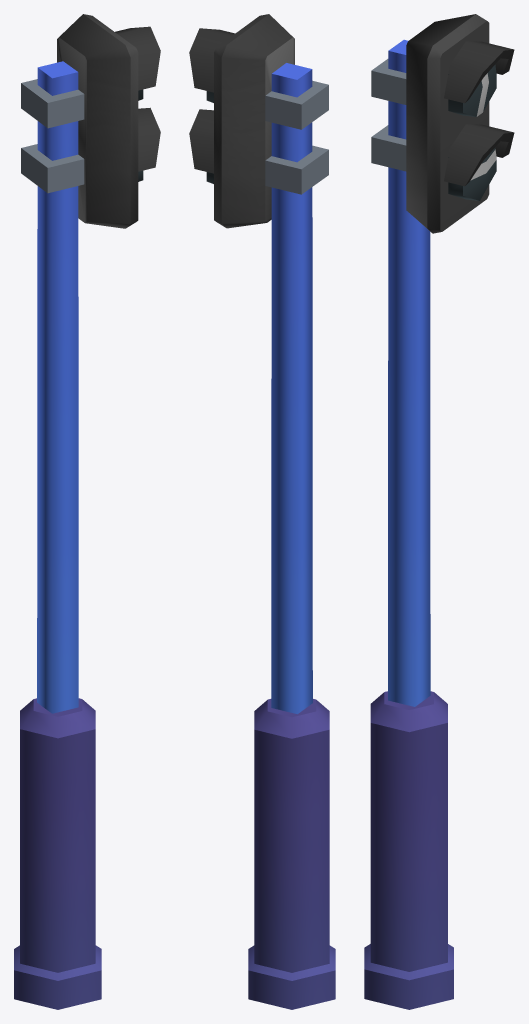
The model's file is Lights_2_B.fbx.
3 views of the same model, side by side, from view 1: azimuth 30°, elevation 25°; view 2: azimuth 150°, elevation 25°; view 3: azimuth 330°, elevation 25° (orthographic). The views are drawn at different scales.
Parts seen in each view (by area): view 1: Lights_2_B; view 2: Lights_2_B; view 3: Lights_2_B.
Boxes of the visible parts, x1=… form: Lights_2_B: x1=14, y1=14, x2=160, y2=1009; Lights_2_B: x1=189, y1=14, x2=335, y2=1009; Lights_2_B: x1=364, y1=14, x2=514, y2=1009.
Bounding box in the file's own units: 49.58 × 330 × 33.33.
